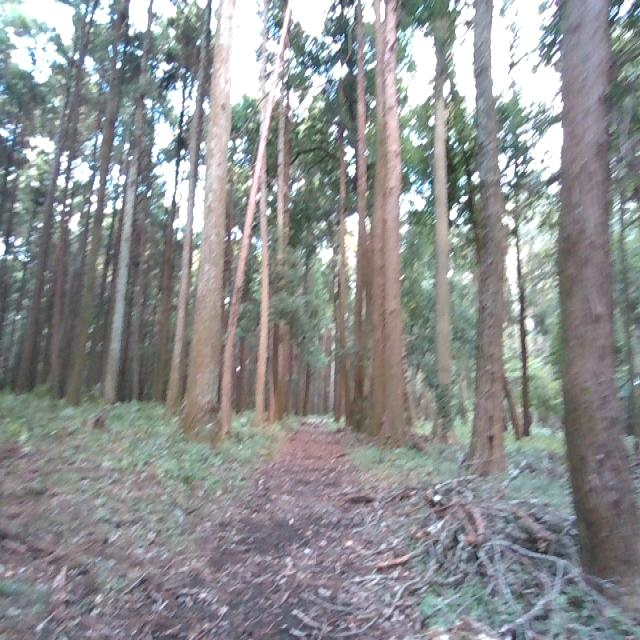tree: (557, 0, 640, 589), (221, 0, 297, 443), (64, 0, 136, 410), (14, 0, 82, 396), (467, 0, 514, 487), (100, 0, 156, 407), (181, 0, 231, 445), (381, 0, 410, 452), (431, 0, 460, 451), (364, 0, 392, 443), (252, 6, 278, 428), (336, 70, 352, 422)
